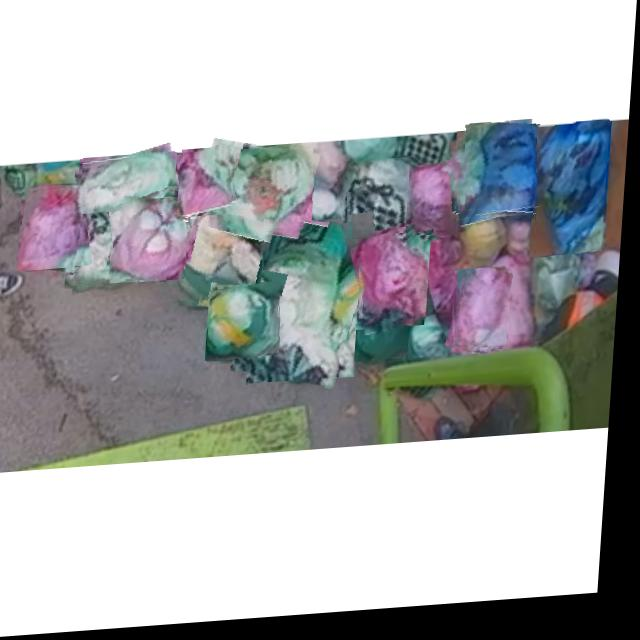general_trashbag: (257, 228, 350, 393), (203, 152, 317, 237), (168, 217, 265, 305), (348, 165, 419, 248), (83, 156, 176, 215), (78, 211, 145, 288), (212, 292, 280, 362), (360, 309, 411, 366)
other_trashbag: (538, 130, 610, 264), (467, 129, 540, 226), (113, 204, 191, 283), (362, 241, 432, 327), (21, 189, 84, 271), (458, 276, 516, 357), (182, 156, 235, 220), (413, 171, 459, 242)
